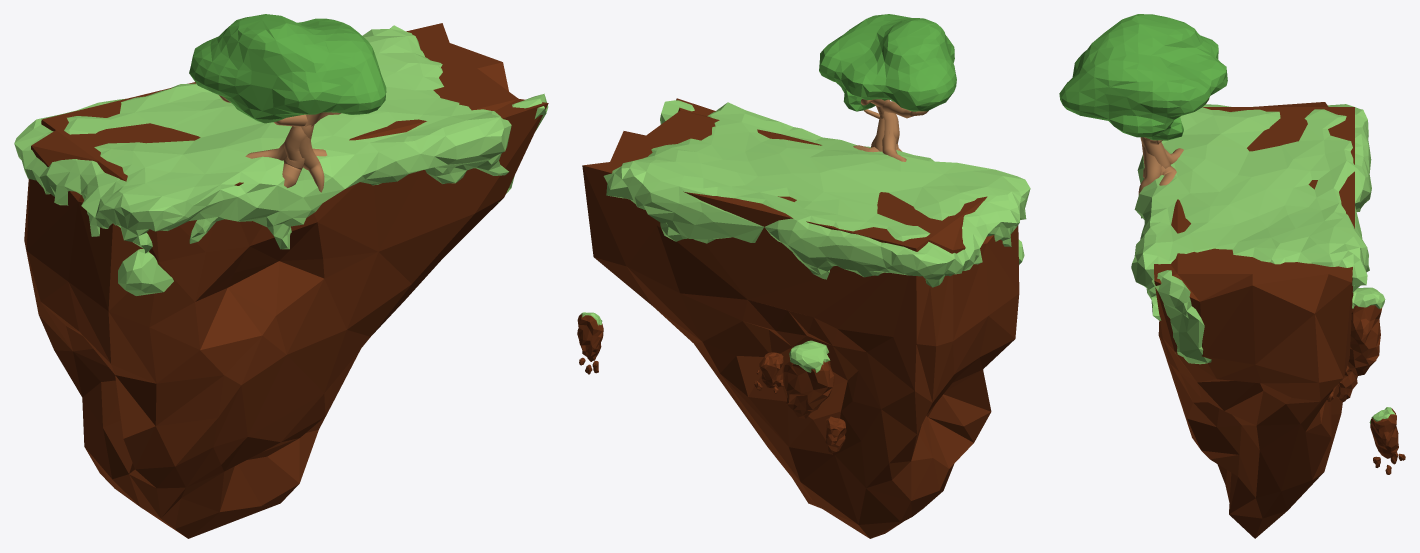
File: Uno_Isola1.fbx
The picture shows the model from 3 angles, left to right: view 1: azimuth 30°, elevation 25°; view 2: azimuth 150°, elevation 25°; view 3: azimuth 270°, elevation 25°; orthographic projection. The views are drawn at different scales.
Visible parts, largest first — view 1: Terreno, Prato, Chioma, NurbsPath.001; view 2: Terreno, Prato, Chioma, Sphere, NurbsPath.001, Sphere.017, Sphere.013, Sphere.001, Sphere.005; view 3: Terreno, Prato, Chioma, Sphere, NurbsPath.001, Sphere.013, Sphere.017, Sphere.005.
Part boxes in pixels (x1,y1,x2,y2): Terreno: (24, 23, 548, 538); Prato: (14, 25, 548, 295); Chioma: (189, 14, 386, 123); NurbsPath.001: (219, 95, 341, 192); Terreno: (582, 98, 1019, 538); Prato: (603, 100, 1030, 287); Chioma: (819, 14, 956, 111); Sphere: (783, 360, 834, 418); NurbsPath.001: (853, 99, 928, 161); Sphere.017: (789, 340, 830, 372); Sphere.013: (577, 314, 603, 361); Sphere.001: (759, 352, 783, 388); Sphere.005: (825, 416, 846, 455); Terreno: (1154, 102, 1354, 538); Prato: (1131, 104, 1371, 364); Chioma: (1059, 14, 1227, 140); Sphere: (1347, 305, 1381, 375); NurbsPath.001: (1138, 98, 1209, 194); Sphere.013: (1370, 408, 1398, 458); Sphere.017: (1352, 287, 1385, 308); Sphere.005: (1336, 366, 1357, 402).
Bounding box in the file's own units: 319 × 380 × 238.
